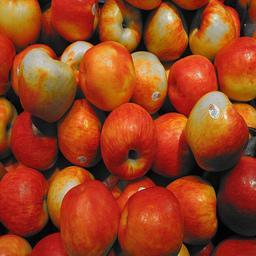apple: (183, 90, 249, 171), (117, 184, 183, 256), (60, 178, 119, 256), (99, 102, 158, 179), (17, 49, 77, 122), (78, 41, 136, 112), (164, 174, 217, 245), (1, 168, 51, 236), (55, 97, 101, 168), (216, 154, 255, 237), (166, 54, 218, 115), (189, 1, 239, 60), (47, 166, 96, 226), (213, 34, 256, 102), (9, 111, 58, 170), (151, 111, 193, 178), (142, 2, 188, 62), (130, 51, 168, 114), (98, 1, 141, 52), (49, 1, 98, 42), (1, 1, 43, 45)
